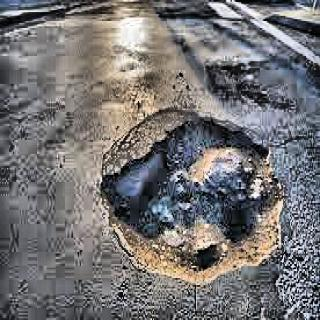alligator-crack: (220, 64, 272, 110)
pothole: (101, 112, 284, 288)
